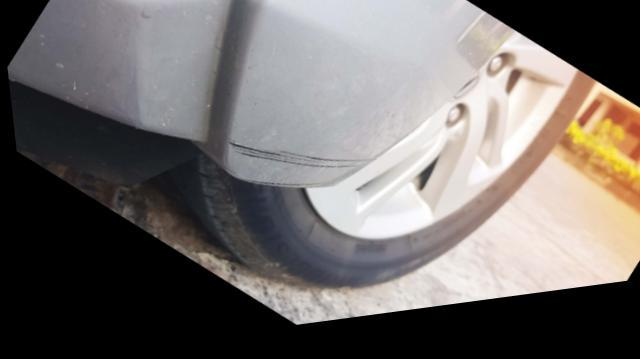scratch: (222, 143, 374, 182)
